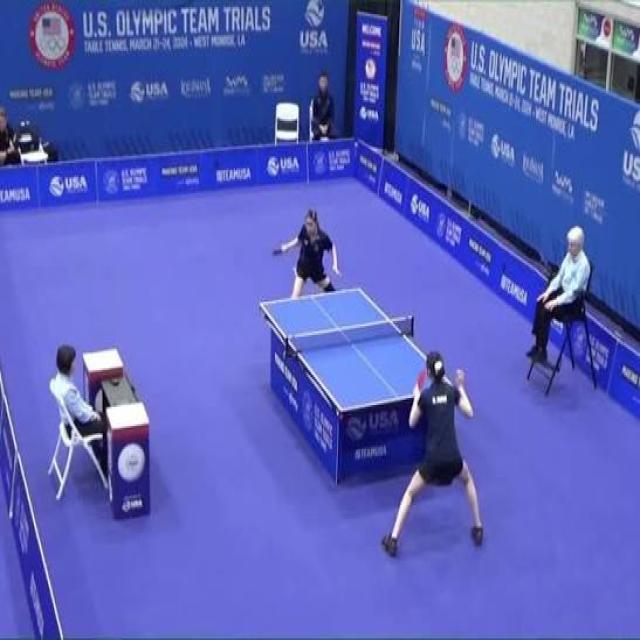TT Net: (283, 316, 415, 360)
TT Racket: (412, 366, 431, 391), (270, 247, 286, 259)
TT Table: (260, 287, 459, 411)
